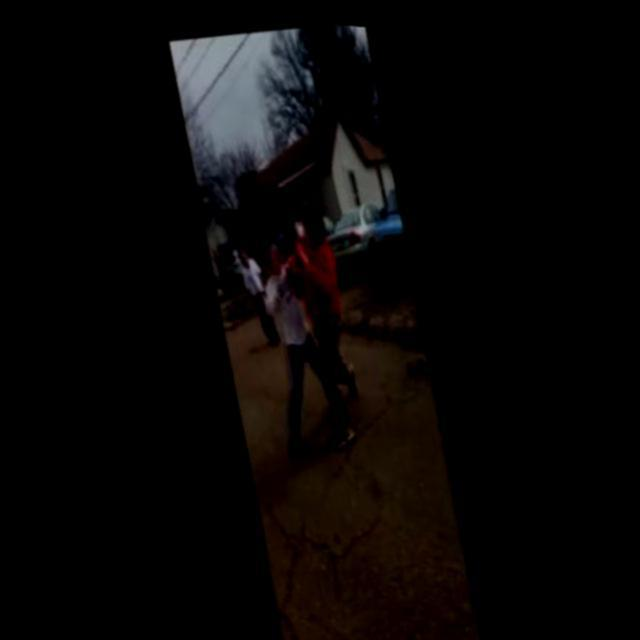fight: (236, 193, 376, 456)
